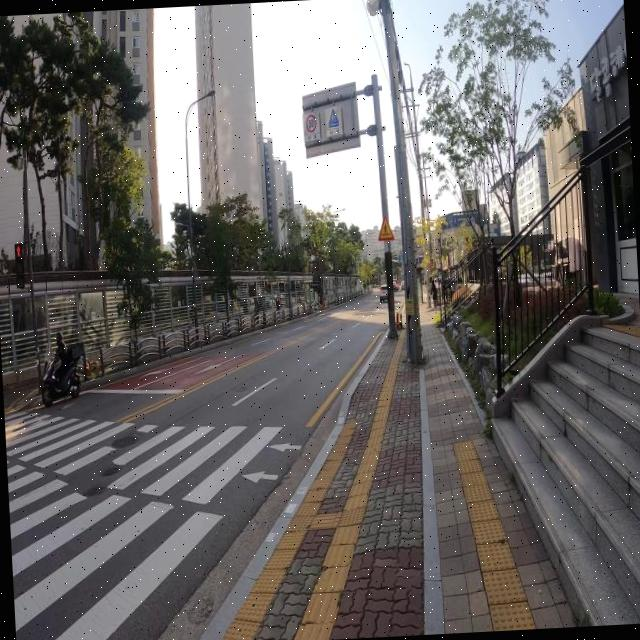crosswalk: (5, 408, 313, 640)
